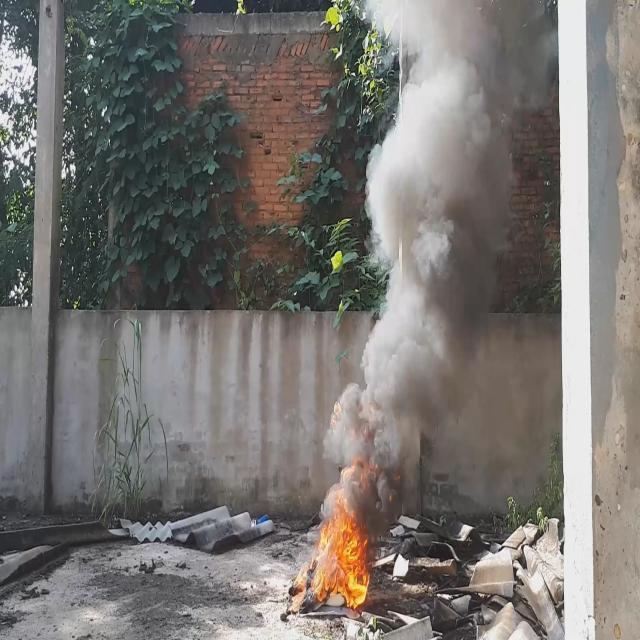Fire: (312, 488, 375, 604)
Smoke: (324, 0, 550, 518)
